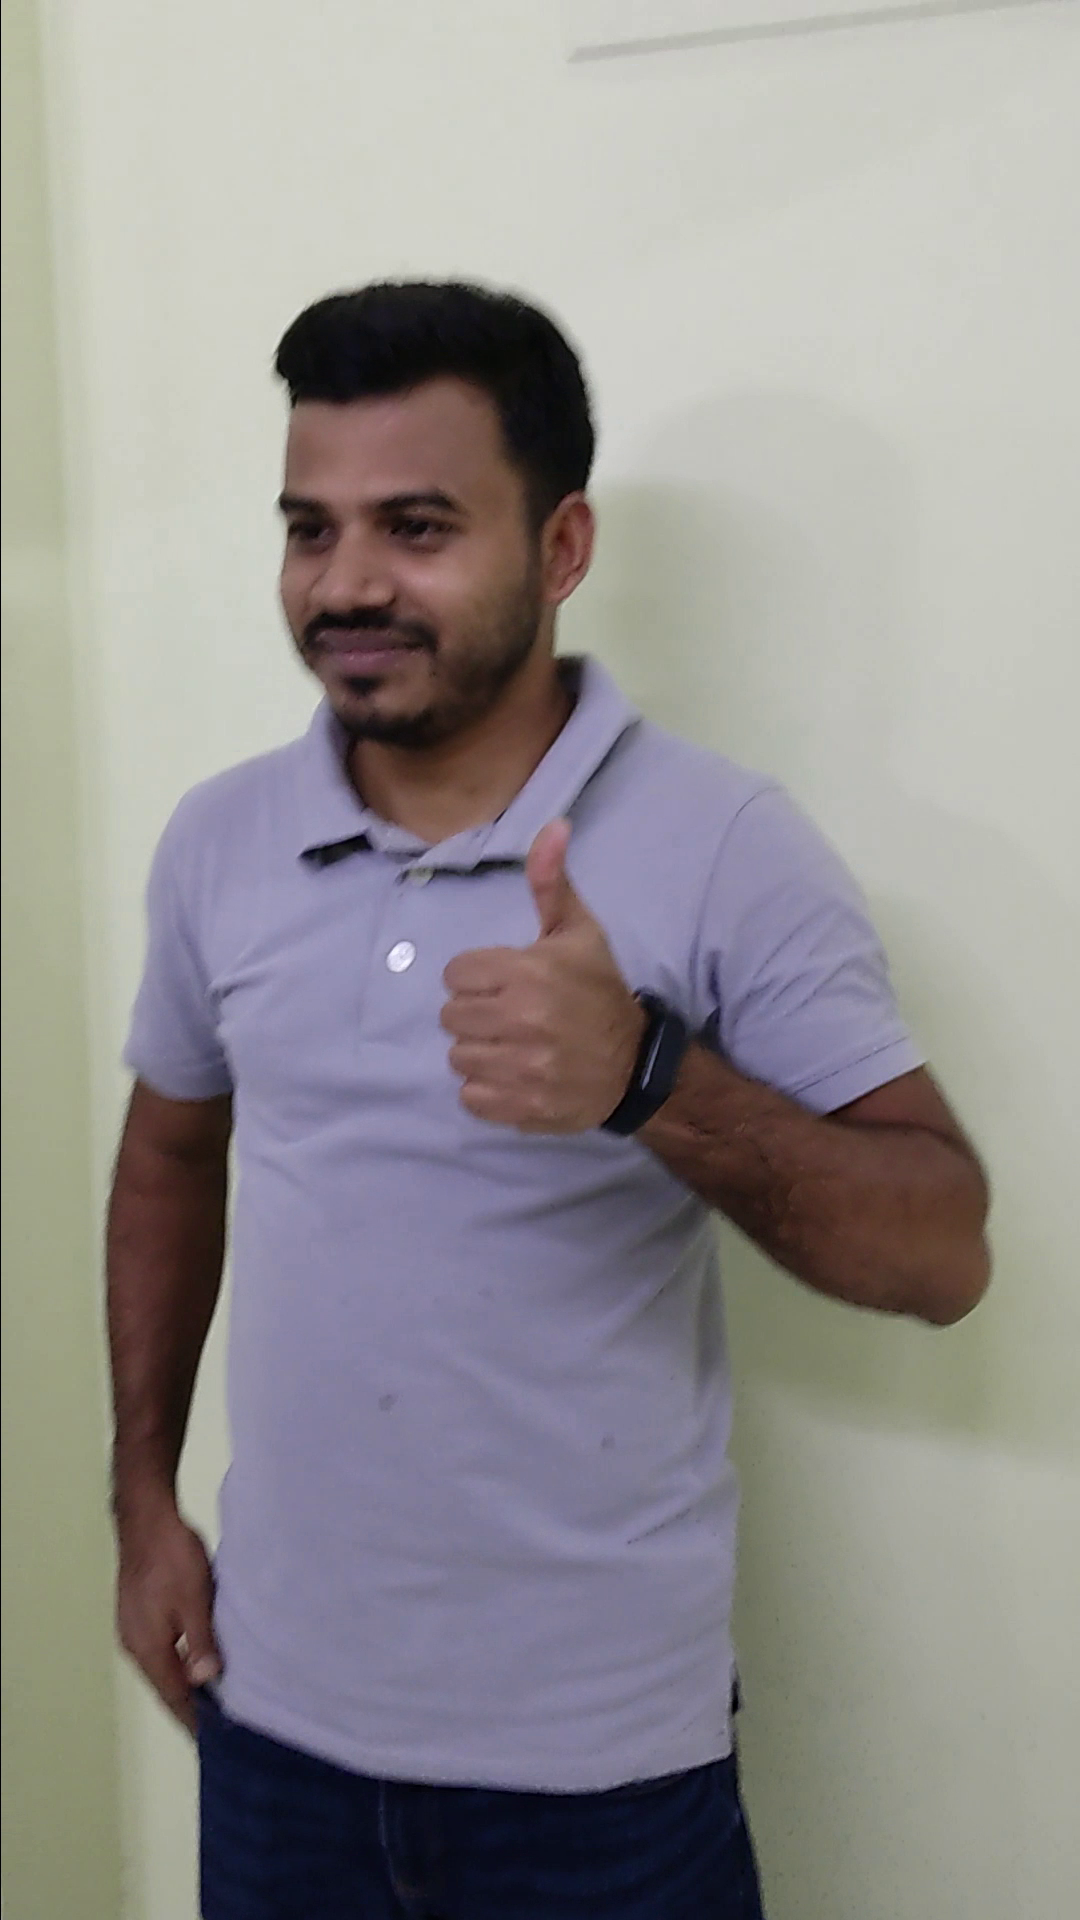Like: (425, 800, 665, 1145)
None: (82, 1455, 229, 1749)
